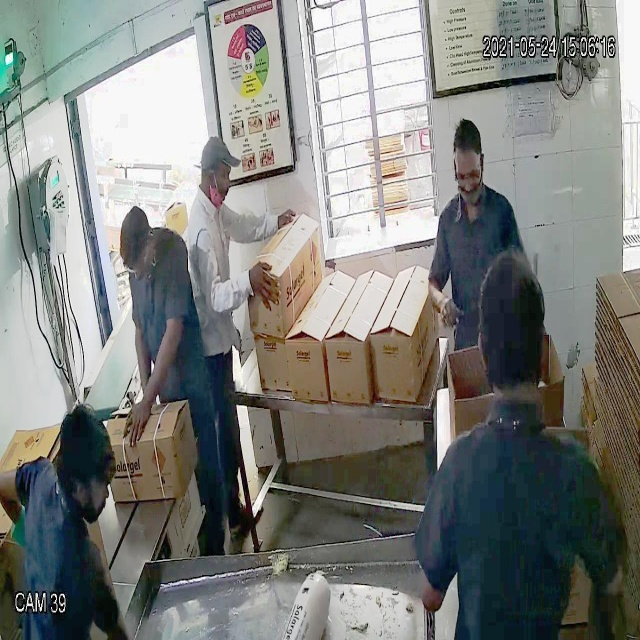Gafas: (449, 152, 486, 184)
Sin_gafas: (205, 164, 232, 192)
